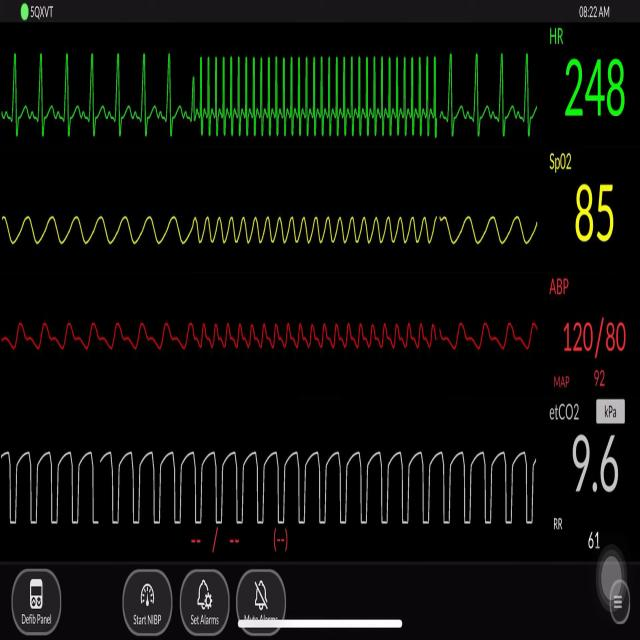danger: (196, 40, 442, 146)
